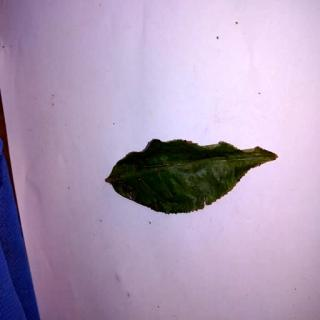Bird Eye Spot: (111, 139, 281, 215)
